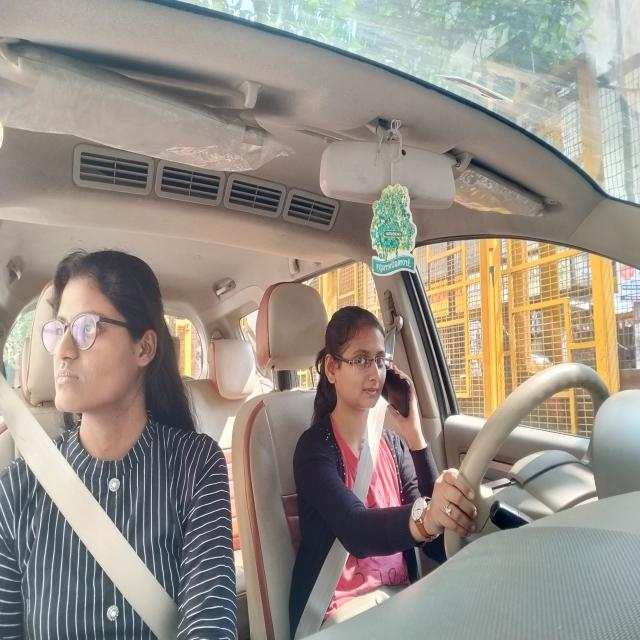mobile: (379, 349, 422, 435)
person: (32, 216, 177, 460), (322, 298, 392, 429)
